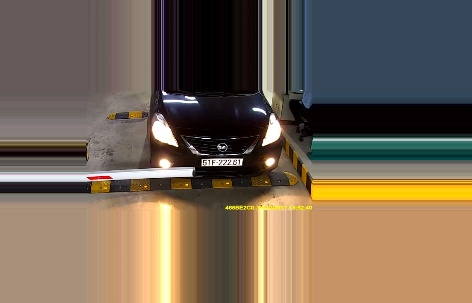plate: (199, 157, 244, 168)
